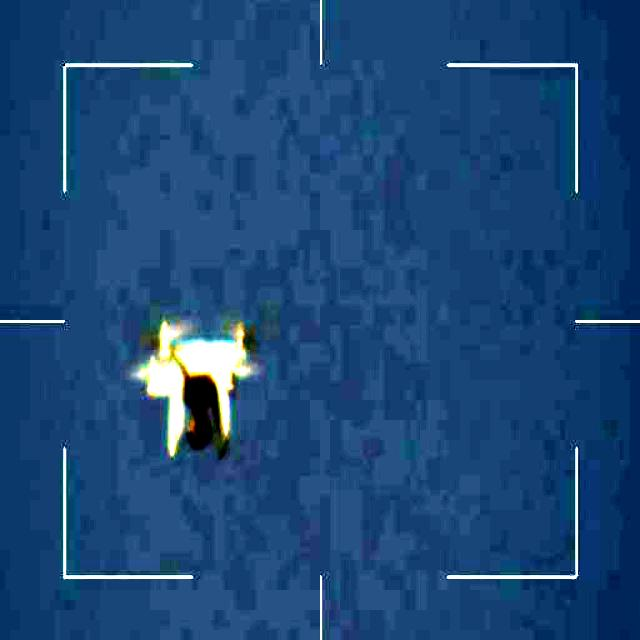bird: (121, 322, 264, 459)
